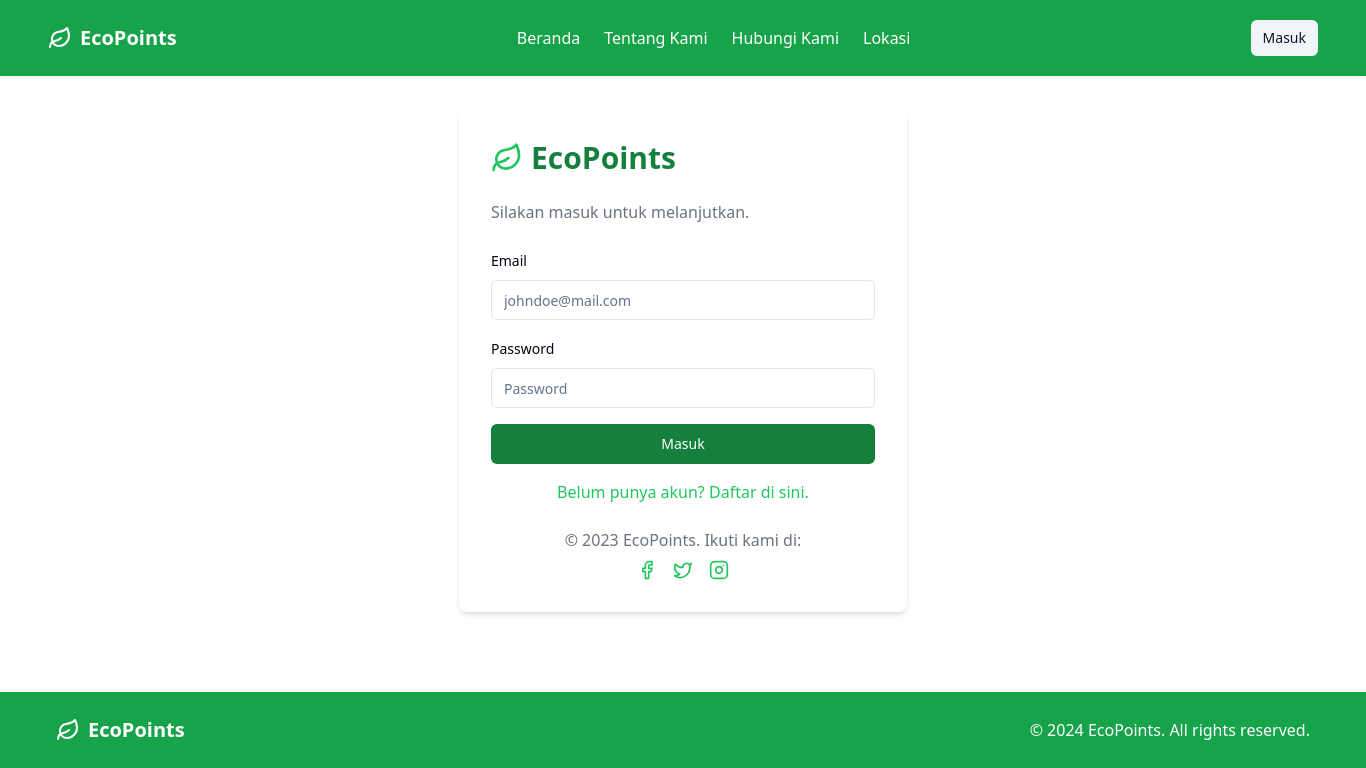
Test: Login Page › Action for Login page › should show error messages when inputs are missing values
Step 1. Click the button with test id "btn-submit" → (683,444), box left=491, top=424, right=875, bottom=464
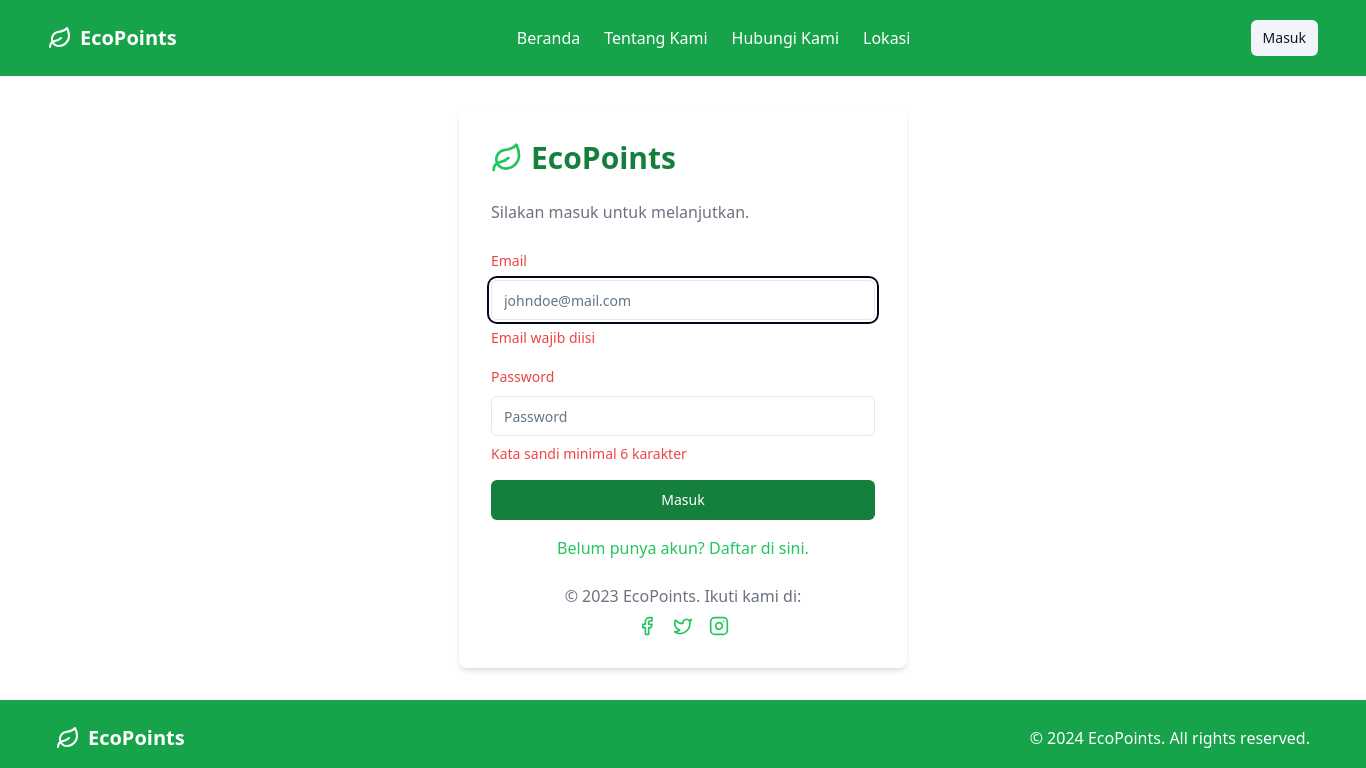
Result: the text "Email wajib diisi" is shown at left=491, top=328, right=595, bottom=347
Result: the text "Kata sandi minimal 6 karakter" is shown at left=491, top=444, right=687, bottom=463
